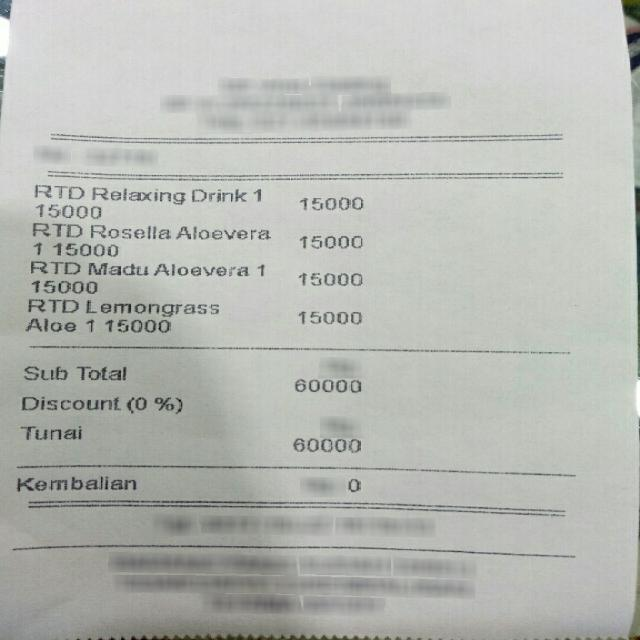kertas: (3, 0, 636, 640)
